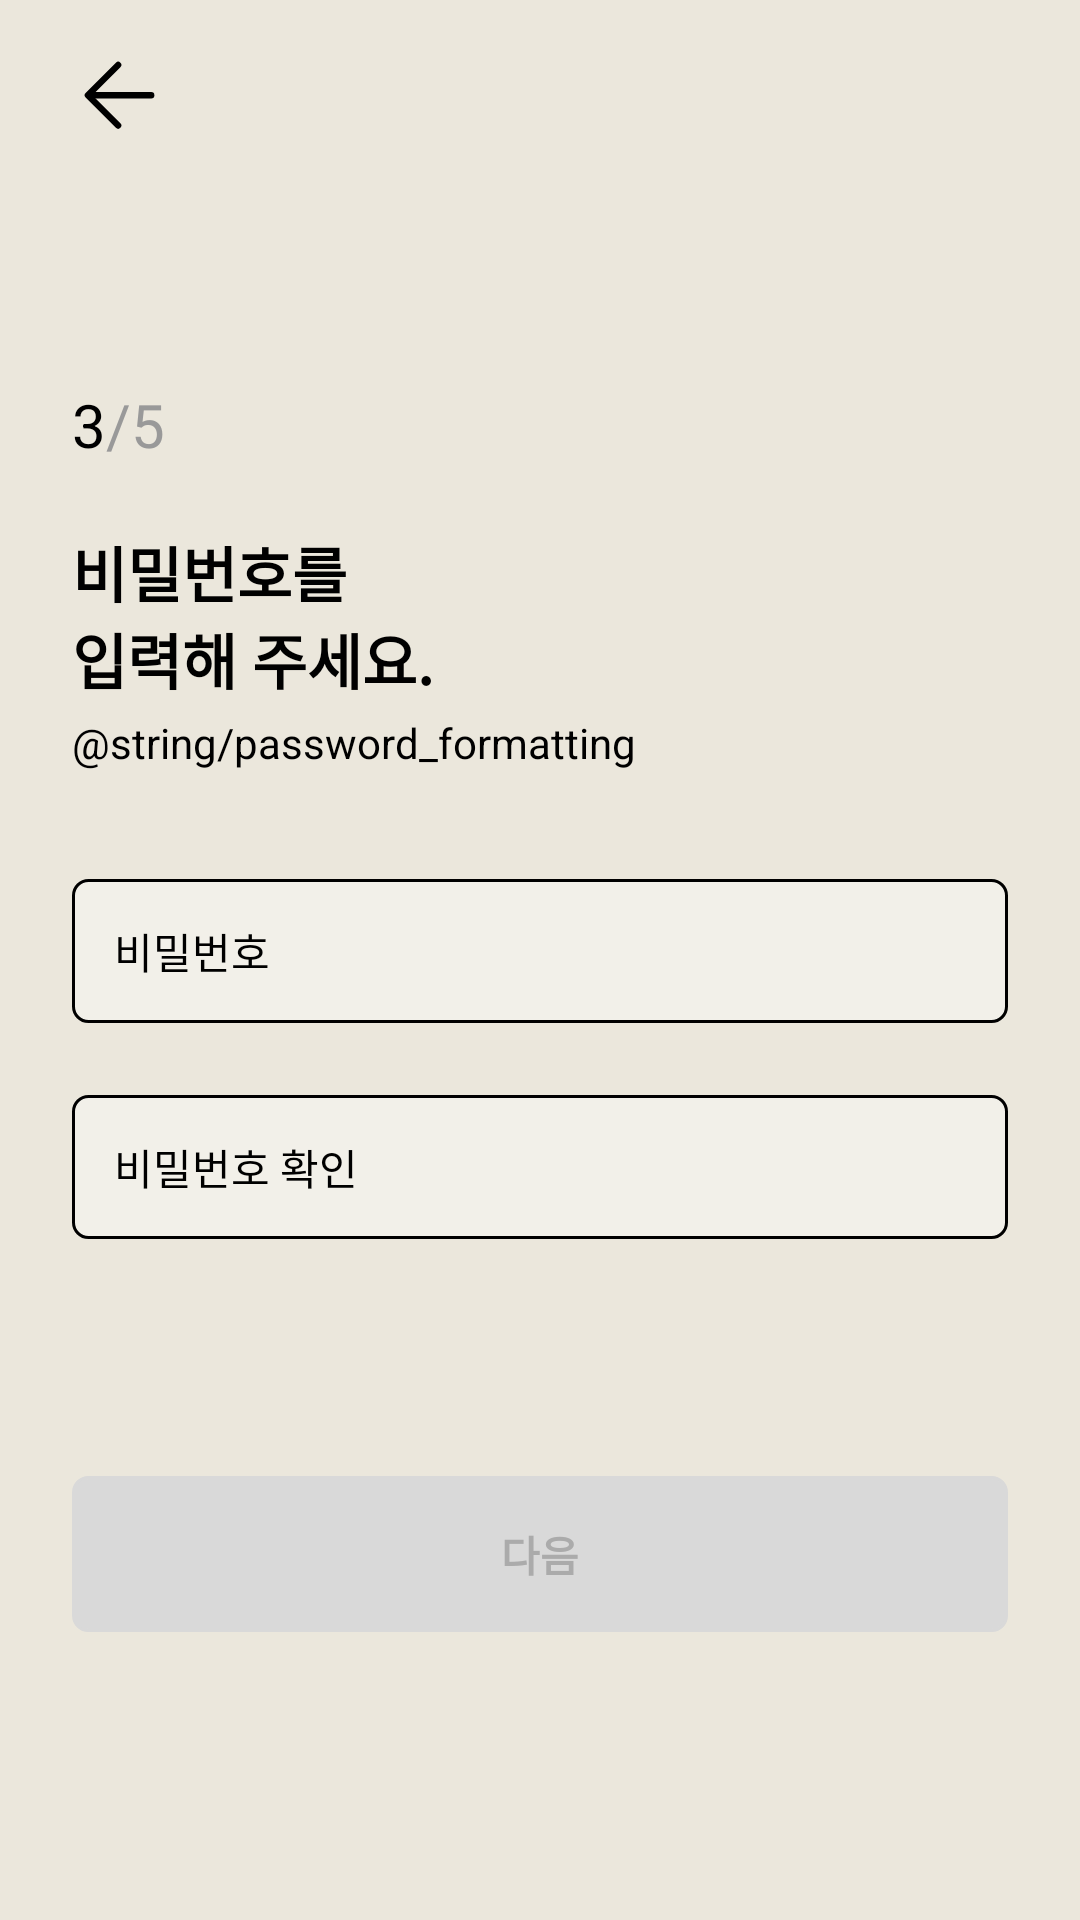

Where to tap for icons on this 1080 x 1920 app screen, as point (x, y):
back: point (119, 95)
